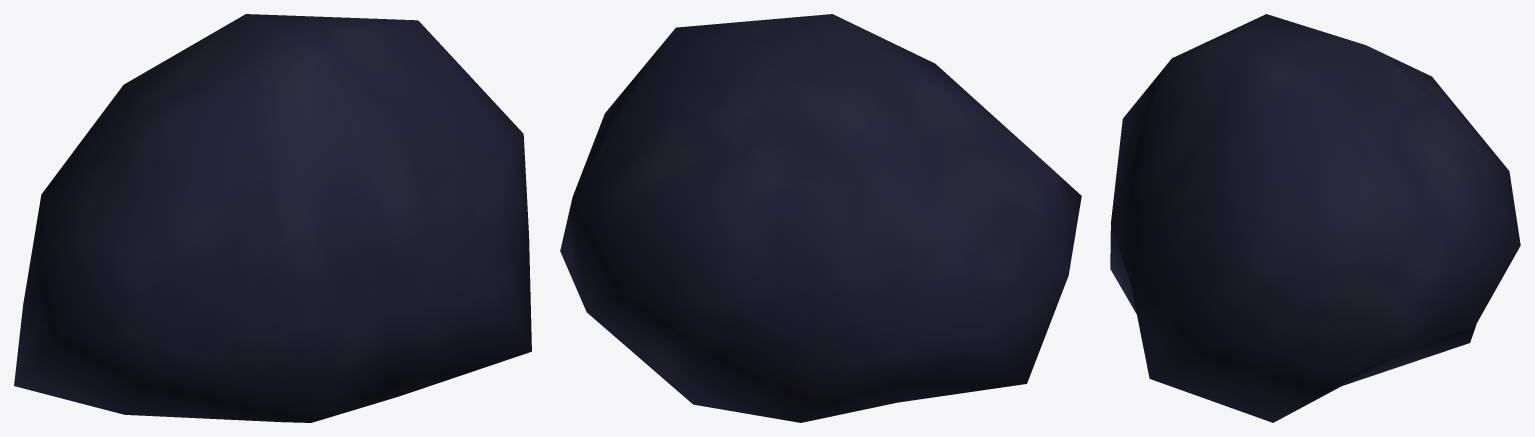
The model's file is Piedra1.fbx.
3 views of the same model, side by side, from view 1: azimuth 30°, elevation 25°; view 2: azimuth 150°, elevation 25°; view 3: azimuth 270°, elevation 25° (orthographic). The views are drawn at different scales.
Visible parts, largest first — view 1: Icosphere.014; view 2: Icosphere.014; view 3: Icosphere.014.
Part boxes in pixels (x1,y1,x2,y2): Icosphere.014: (14, 14, 531, 422); Icosphere.014: (560, 14, 1081, 422); Icosphere.014: (1110, 14, 1520, 422).
Size of the model in its own units: 342 by 237 by 279.
